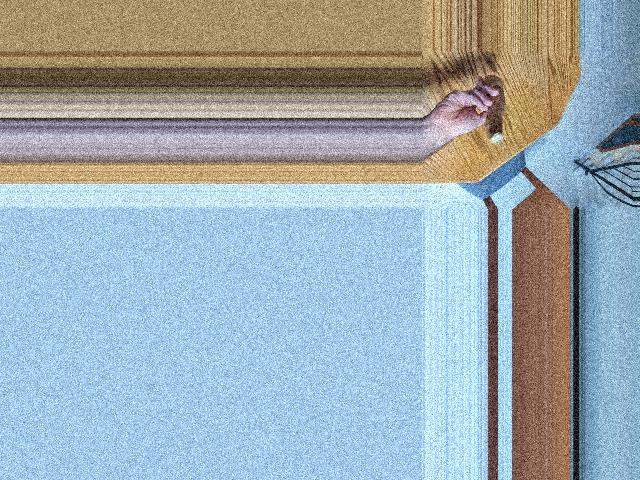sweet_potato: (477, 74, 505, 144)
